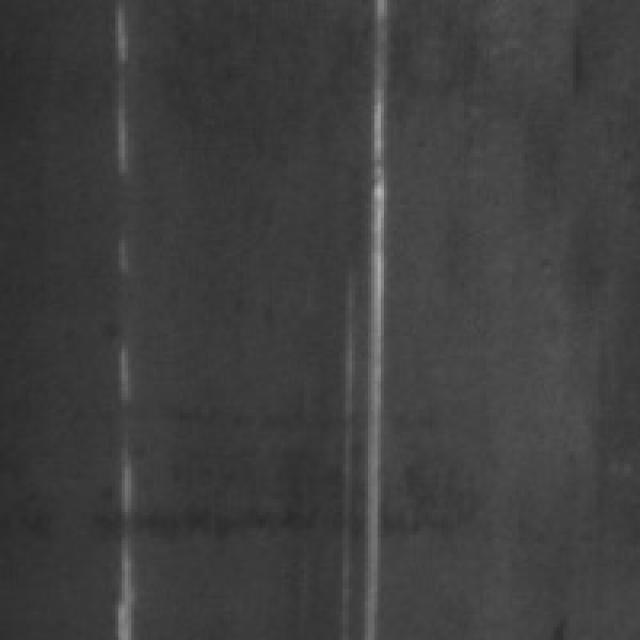scratches: (342, 0, 390, 637), (96, 151, 131, 634), (96, 0, 138, 186)
